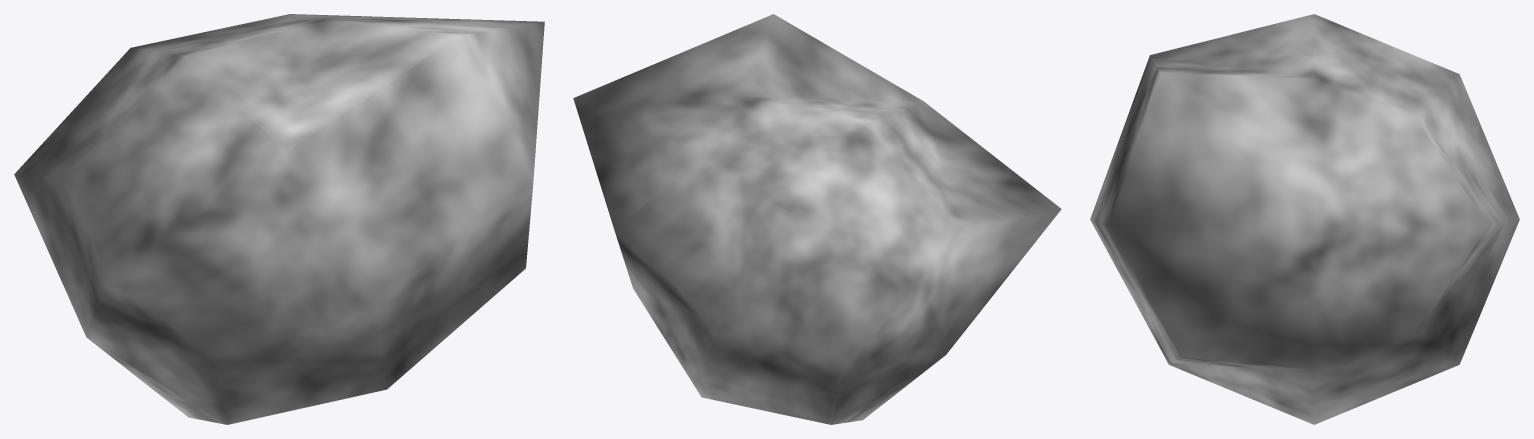
The model's file is asteroid3.obj.
3 renders of one model, left to right at view 1: azimuth 30°, elevation 25°; view 2: azimuth 150°, elevation 25°; view 3: azimuth 270°, elevation 25°, orthographic. The views are drawn at different scales.
Parts seen in each view (by area): view 1: asteroid_01.007_asteroid.001; view 2: asteroid_01.007_asteroid.001; view 3: asteroid_01.007_asteroid.001.
Boxes of the visible parts, x1=… form: asteroid_01.007_asteroid.001: x1=14, y1=14, x2=544, y2=424; asteroid_01.007_asteroid.001: x1=573, y1=14, x2=1061, y2=424; asteroid_01.007_asteroid.001: x1=1090, y1=14, x2=1519, y2=424.
Bounding box in the file's own units: 3.17 × 2.3 × 2.39.
Materials: 1 (1 with a texture image).
